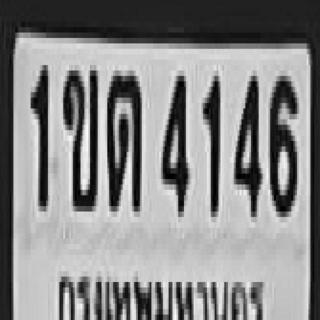A02: (61, 65, 96, 206)
A21: (106, 65, 140, 206)
N01: (29, 60, 46, 206), (201, 70, 218, 212)
N04: (232, 70, 259, 212), (160, 70, 187, 212)
N06: (268, 70, 295, 212)
